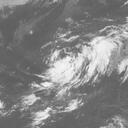cyclone: (46, 41, 95, 87)
